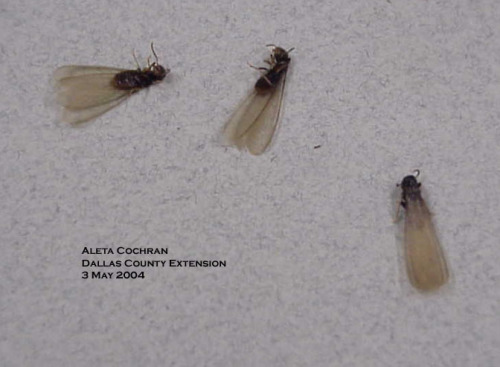flying termite: (373, 153, 463, 312), (43, 36, 178, 127), (212, 33, 305, 159)
